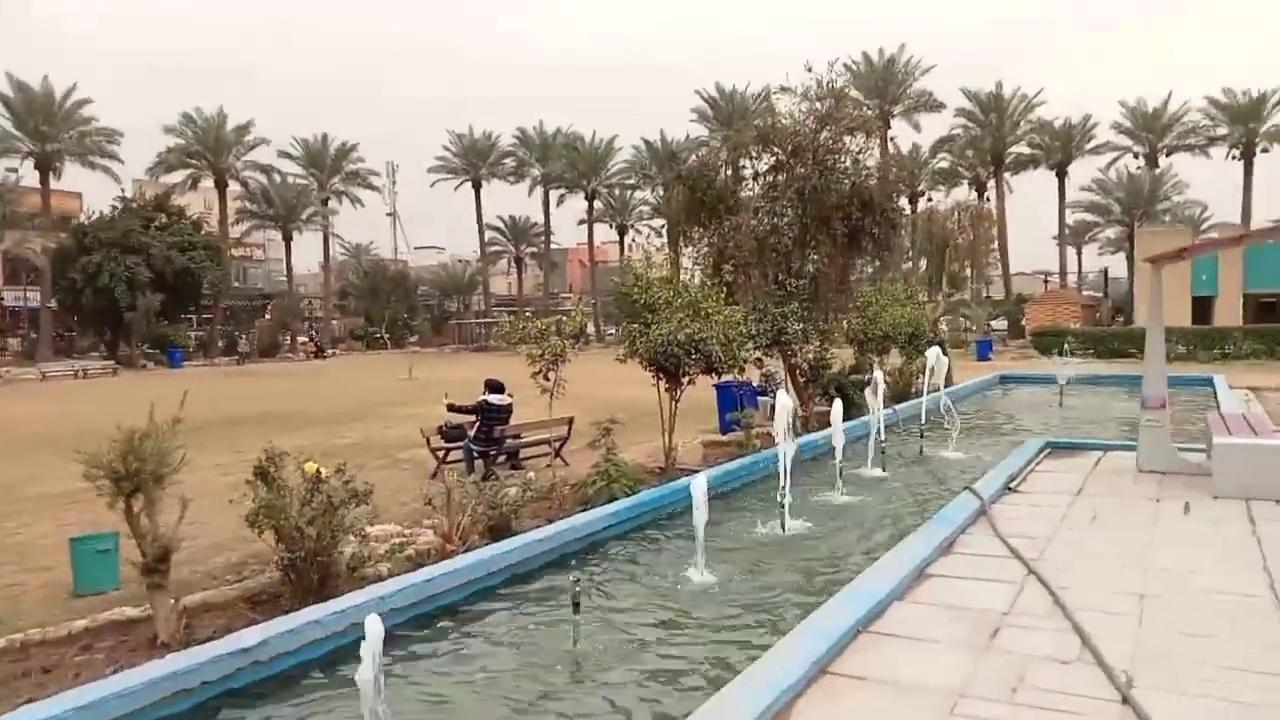fountain: (4, 354, 1271, 718), (755, 386, 813, 535), (810, 396, 863, 504), (916, 344, 966, 458), (849, 362, 890, 478), (679, 472, 718, 584), (352, 611, 389, 718)
person: (444, 377, 522, 481), (236, 333, 250, 365)
tree: (0, 70, 125, 361), (144, 102, 272, 357), (754, 59, 876, 325), (71, 387, 196, 646), (52, 187, 225, 367), (611, 262, 753, 471), (1087, 89, 1209, 324), (839, 42, 945, 282), (941, 78, 1046, 306), (240, 439, 376, 610), (275, 130, 380, 344), (425, 123, 522, 343), (687, 79, 776, 302), (1066, 162, 1184, 324), (231, 163, 330, 351), (545, 129, 628, 343), (505, 118, 579, 317), (1021, 112, 1102, 289), (624, 127, 707, 284), (1194, 85, 1279, 231), (491, 295, 590, 418), (926, 129, 995, 302), (908, 198, 995, 335), (841, 279, 931, 401), (60, 245, 152, 363), (1090, 88, 1210, 172), (881, 139, 946, 289), (750, 298, 818, 421), (482, 212, 556, 321), (575, 184, 653, 286), (337, 259, 422, 348), (570, 414, 639, 508), (331, 234, 381, 324), (883, 139, 942, 214), (1052, 217, 1102, 288), (428, 257, 481, 318), (332, 234, 380, 279), (1167, 198, 1214, 243)
